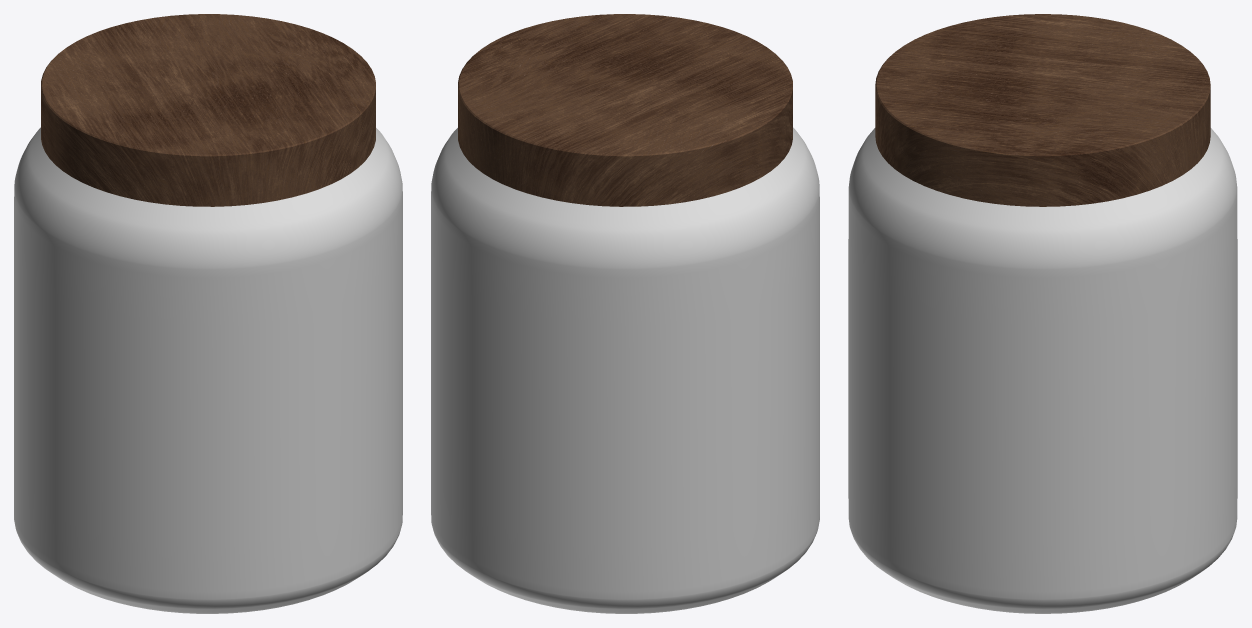
File: glass_jar_with_wooden_cover.glb
3 renders of one model, left to right at view 1: azimuth 30°, elevation 25°; view 2: azimuth 150°, elevation 25°; view 3: azimuth 270°, elevation 25°, orthographic.
Parts seen in each view (by area): view 1: Body, Cap; view 2: Body, Cap; view 3: Body, Cap.
Part boxes in pixels (x1,y1,x2,y2): Body: (14,127,402,613); Cap: (41,14,375,206); Body: (431,127,819,613); Cap: (458,14,792,206); Body: (848,128,1237,613); Cap: (875,14,1210,206).
Size of the model in its own units: 1.99 by 2.61 by 1.99.
2 materials, 1 textured.
